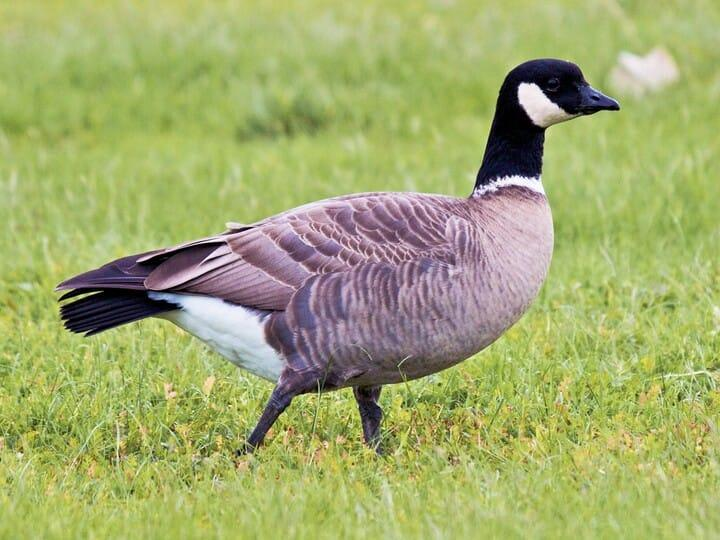Canadian-Goose: (52, 49, 626, 462)
